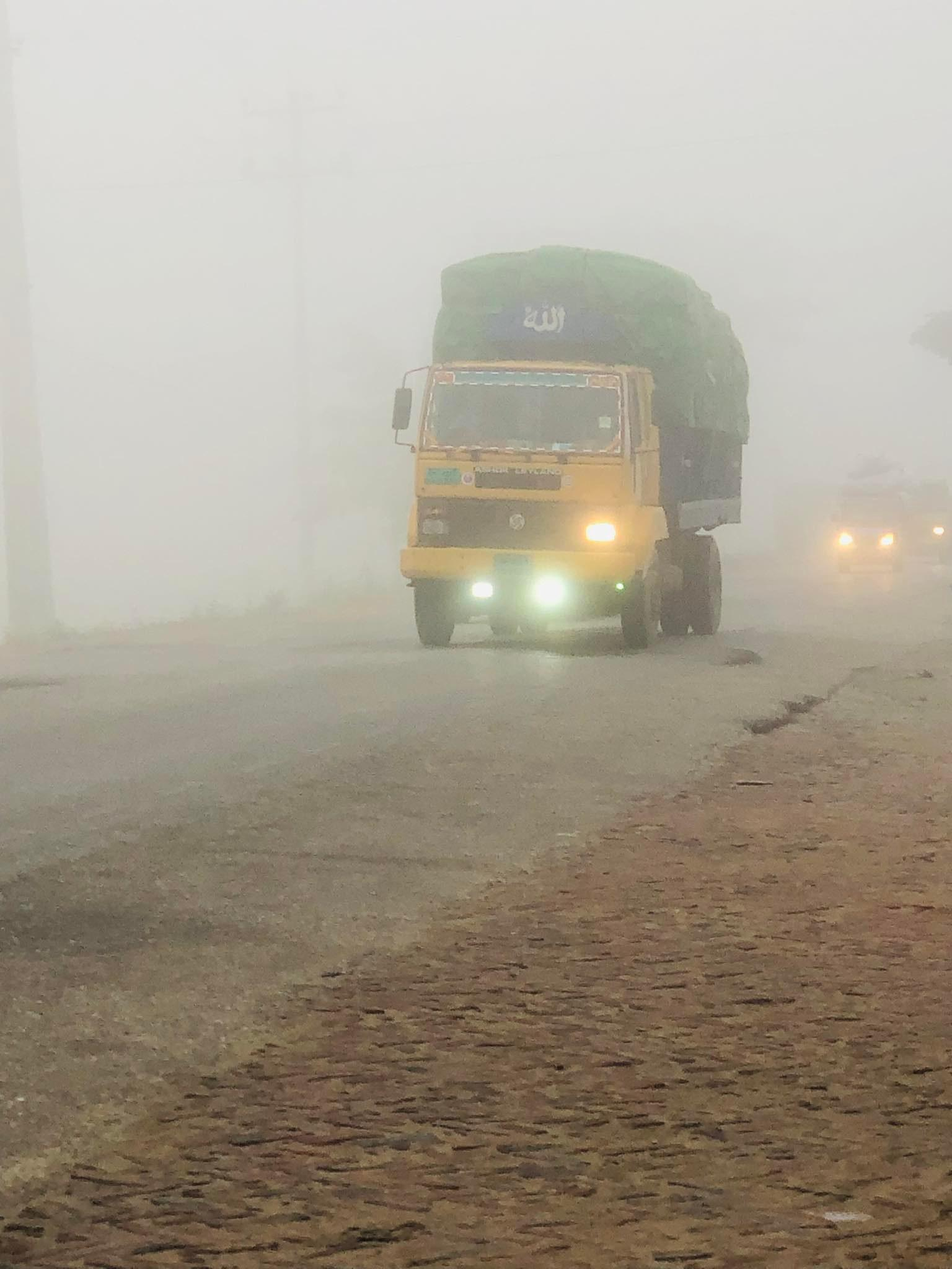Truck: (349, 190, 767, 679), (818, 456, 928, 595)
